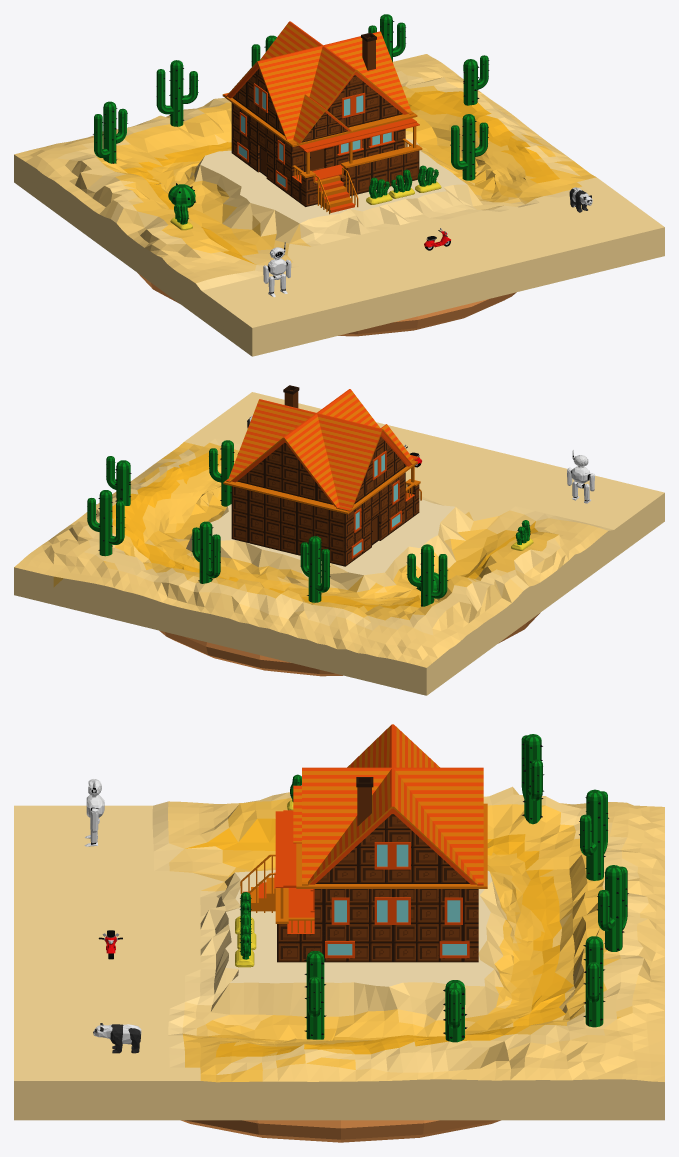
The picture shows the model from 3 angles, top to bottom: view 1: azimuth 30°, elevation 25°; view 2: azimuth 150°, elevation 25°; view 3: azimuth 270°, elevation 25°; orthographic projection. The views are drawn at different scales.
Visible parts, largest first — view 1: Cube.001, Cube, UNDERGROUND_PIZZA, Cylinder.044, Cylinder.037, Cylinder.045, Cylinder.038, OBJRANDOM_PLATZEEBOT, Cylinder.042, Cylinder.039, Cylinder.041, Sphere.023; view 2: Cube.001, Cube, UNDERGROUND_PIZZA, Cylinder.042, Cylinder.045, Cylinder.044, Cylinder.043, Cylinder.037, Cylinder.038, OBJRANDOM_PLATZEEBOT; view 3: Cube.001, Cube, UNDERGROUND_PIZZA, Cylinder.043, Cylinder.044, Cylinder.045, Cylinder.042, Cylinder.037, Cylinder.038, ANIMAL_PANDA, OBJRANDOM_PLATZEEBOT, Cylinder.041.
Boxes of the visible parts, x1,y1,x2,y2 form: Cube.001: (14,54,664,356); Cube: (222,21,422,214); UNDERGROUND_PIZZA: (138,273,516,336); Cylinder.044: (156,60,198,126); Cylinder.037: (450,114,488,180); Cylinder.045: (93,101,127,163); Cylinder.038: (463,55,489,105); OBJRANDOM_PLATZEEBOT: (263,242,291,297); Cylinder.042: (368,14,406,62); Cylinder.039: (366,177,392,204); Cylinder.041: (415,165,441,192); Sphere.023: (168,183,195,207); Cube.001: (14,392,664,695); Cube: (223,385,421,566); UNDERGROUND_PIZZA: (159,613,539,676); Cylinder.042: (87,490,125,556); Cylinder.045: (406,544,448,606); Cylinder.044: (300,536,330,602); Cylinder.043: (192,521,220,583); Cylinder.037: (209,440,238,506); Cylinder.038: (106,456,131,505); OBJRANDOM_PLATZEEBOT: (567,450,594,503); Cube.001: (14,786,664,1120); Cube: (240,724,487,962); UNDERGROUND_PIZZA: (181,1120,500,1142); Cylinder.043: (597,865,628,951); Cylinder.044: (579,789,608,880); Cylinder.045: (521,734,544,824); Cylinder.042: (583,936,605,1027); Cylinder.037: (304,951,326,1039); Cylinder.038: (443,980,467,1042); ANIMAL_PANDA: (93,1023,141,1053); OBJRANDOM_PLATZEEBOT: (84,779,104,846); Cylinder.041: (235,924,254,967).
Size of the model in its own units: 4002 by 1839 by 4001.
31 materials, 3 textured.
